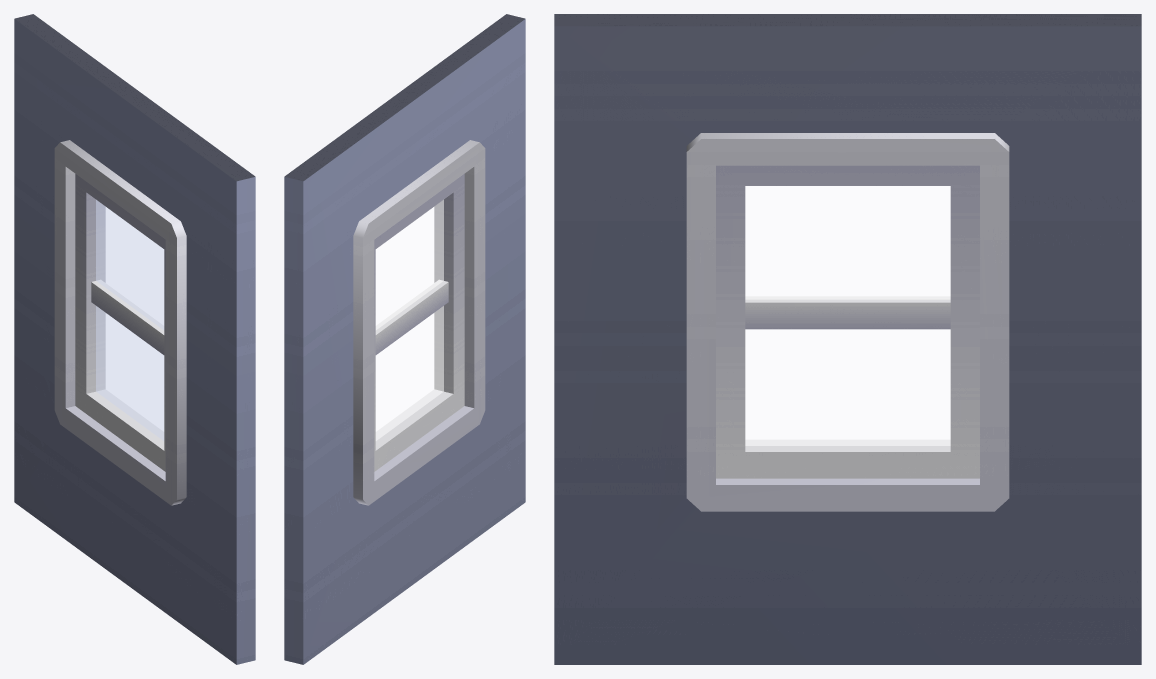
File: wall-window-square-detailed.glb
The picture shows the model from 3 angles, left to right: view 1: azimuth 30°, elevation 25°; view 2: azimuth 150°, elevation 25°; view 3: azimuth 270°, elevation 25°; orthographic projection. The views are drawn at different scales.
Visible parts, largest first — view 1: wall-window-square-detailed, (%ignore); view 2: wall-window-square-detailed, (%ignore); view 3: wall-window-square-detailed, (%ignore).
Part boxes in pixels (x1,y1,x2,y2): wall-window-square-detailed: [14, 14, 255, 664]; (%ignore): [96, 200, 164, 440]; wall-window-square-detailed: [284, 14, 525, 664]; (%ignore): [375, 200, 443, 440]; wall-window-square-detailed: [554, 14, 1141, 664]; (%ignore): [745, 186, 950, 445].
Size of the model in its own units: 0.2 by 2.4 by 2.
Materials: 2 (1 with a texture image).
